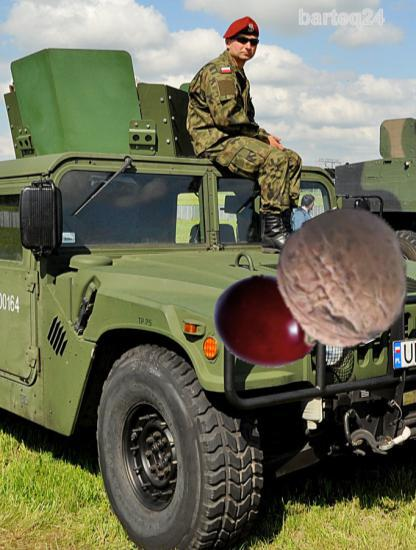Tamarillo: (213, 263, 328, 378)
Walnut: (277, 210, 414, 347)
